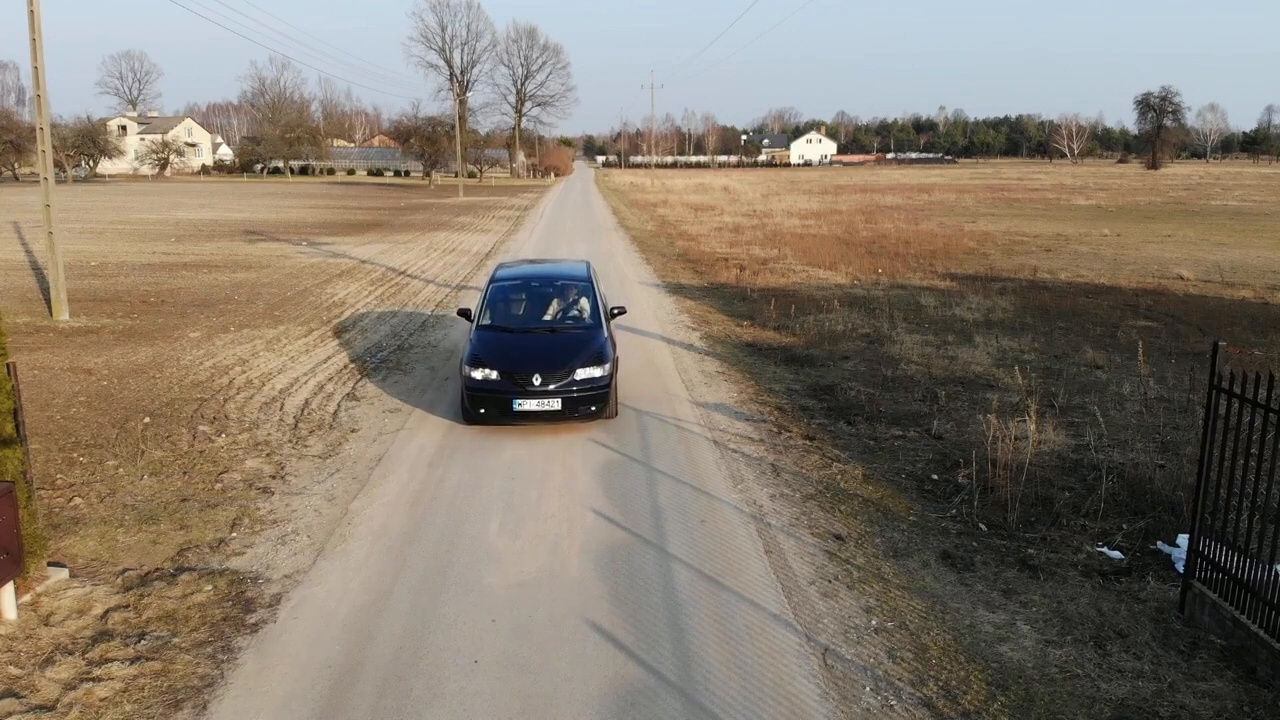araba: (458, 258, 621, 418)
